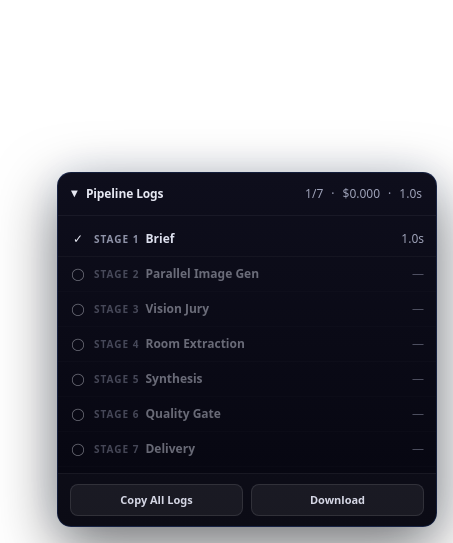
Test: PipelineLogsPanel — row expand / collapse › clicking a row with output reveals the JSON preview
The image size is (453, 543).
Click the button with test id "pipeline-logs-row" showing "✓ Stage 1Brief 1.0s" at (117, 238), box [58,222,436,256]
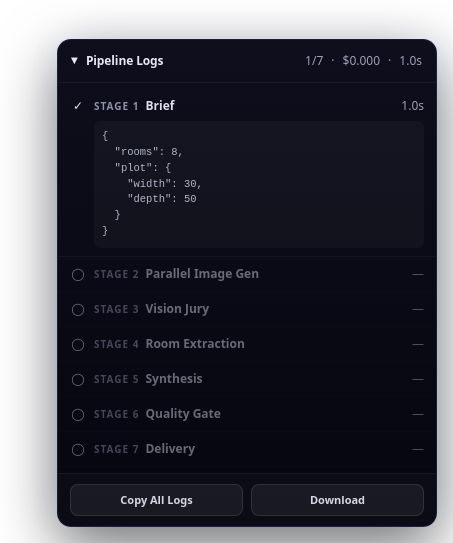
Expected: the text with test id "pipeline-logs-row-output" shows "rooms", [102,130,203,237]
Expected: the text with test id "pipeline-logs-row-output" shows "8", [102,130,203,237]
